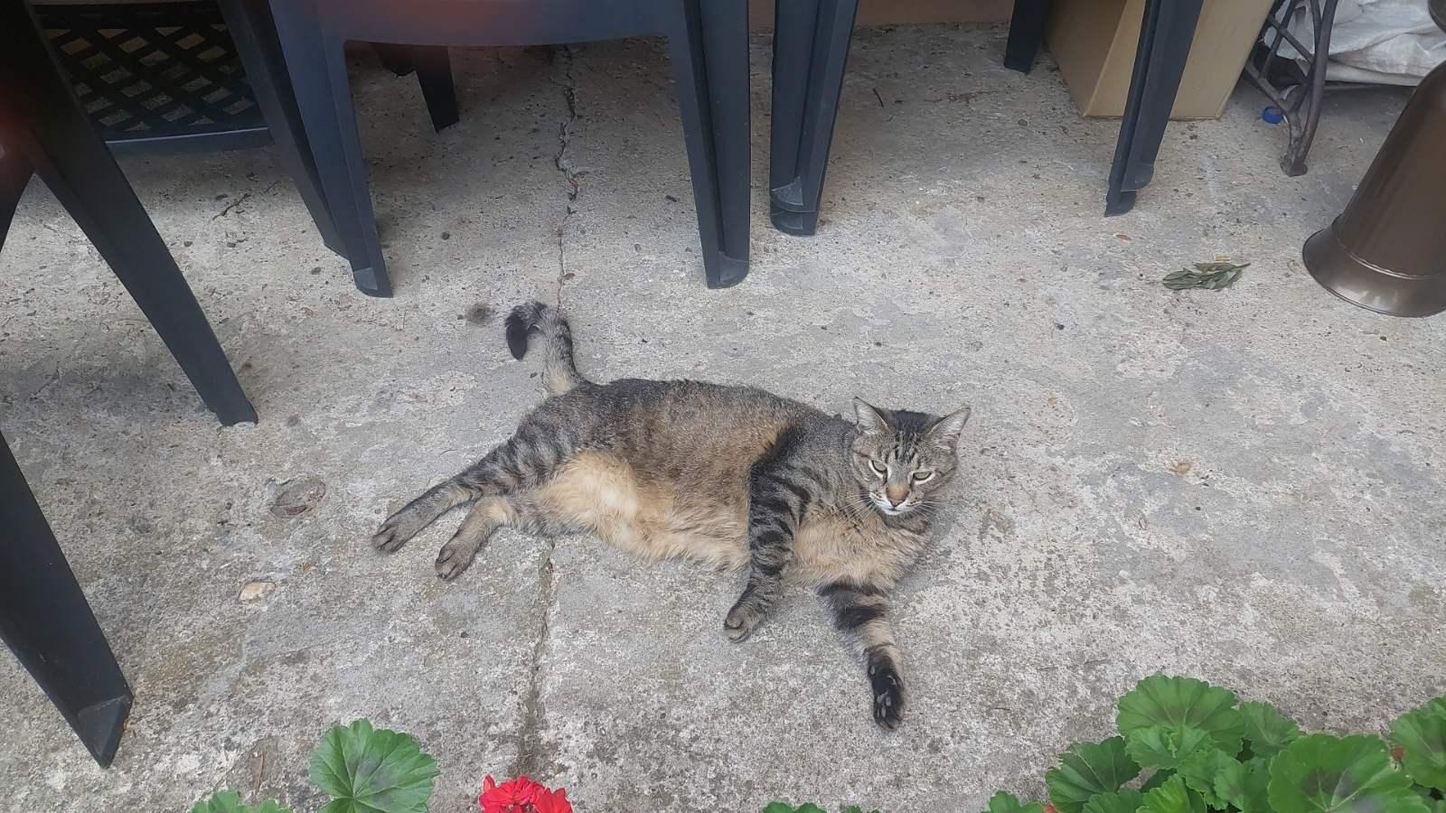macka: (371, 297, 972, 730)
